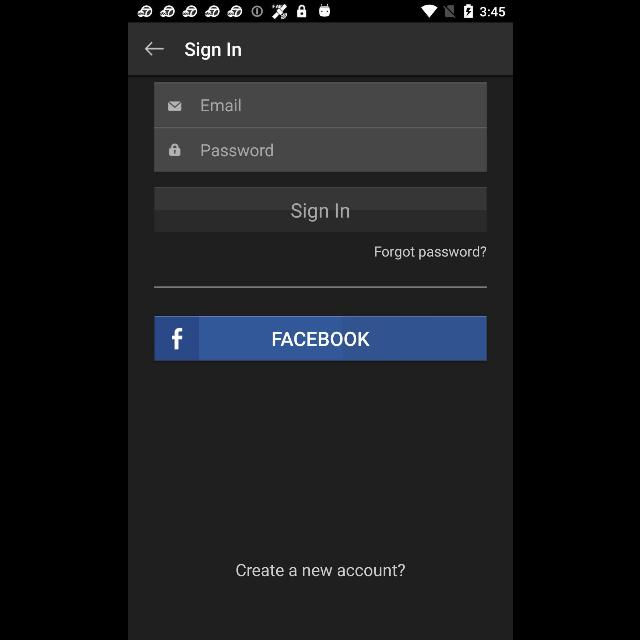icon: (144, 42, 162, 56), (168, 144, 180, 156), (167, 101, 181, 111)
input: (154, 83, 486, 129), (154, 128, 486, 172)
text: (236, 564, 404, 576), (374, 246, 486, 260), (183, 42, 240, 60), (201, 144, 273, 156), (200, 100, 240, 112)
textbutton: (154, 316, 486, 360), (154, 188, 486, 232)
toolbar: (127, 23, 511, 75)
uppertaskbar: (128, 1, 512, 23)
